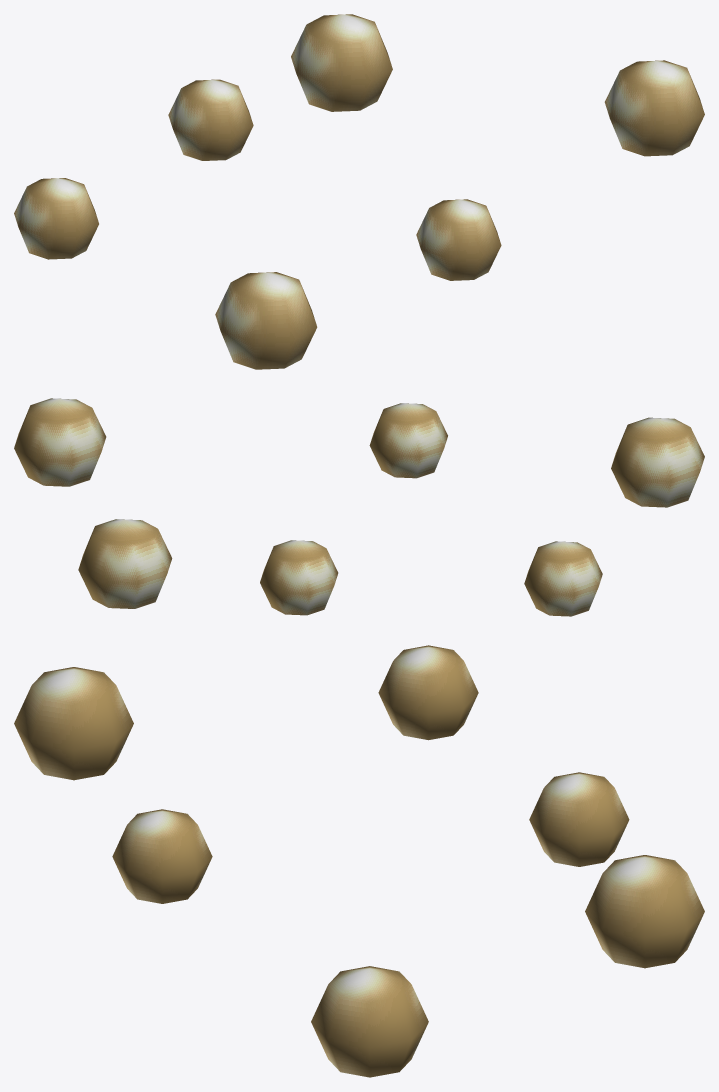
The model's file is a_SWApot02_1.glb.
3 renders of one model, top to bottom at view 1: azimuth 30°, elevation 25°; view 2: azimuth 150°, elevation 25°; view 3: azimuth 270°, elevation 25°, orthographic. The views are drawn at different scales.
Visible parts, largest first — view 1: a_SWApot02_1; view 2: a_SWApot02_1; view 3: a_SWApot02_1.
Part boxes in pixels (left/top/right/bottom): a_SWApot02_1: left=14, top=14, right=704, bottom=369; a_SWApot02_1: left=14, top=398, right=704, bottom=616; a_SWApot02_1: left=14, top=645, right=704, bottom=1077.
Size of the model in its own units: 0.7225 by 0.11 by 0.5808.
Materials: 1 (1 with a texture image).
